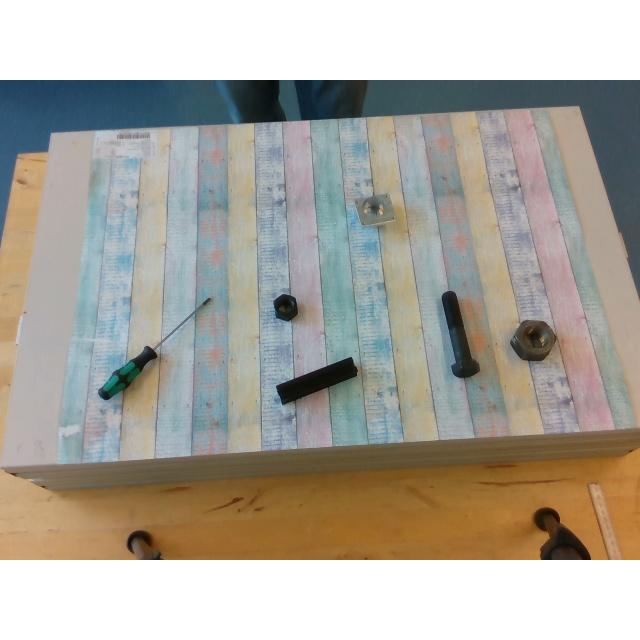F20_20_B: (276, 357, 360, 403)
M20: (274, 294, 298, 318)
M20_100: (441, 292, 477, 376)
M30: (510, 320, 554, 360)
Screwdriver: (98, 297, 210, 398)
